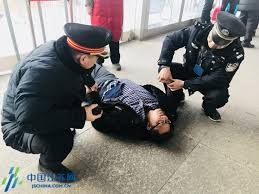falling: (78, 66, 186, 143)
